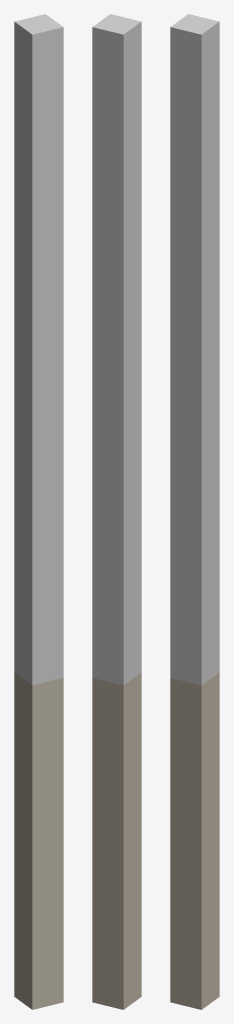
File: Mesh_Wall2Colors_B5.fbx
3 views of the same model, side by side, from view 1: azimuth 30°, elevation 25°; view 2: azimuth 150°, elevation 25°; view 3: azimuth 330°, elevation 25° (orthographic).
Parts seen in each view (by area): view 1: Mesh_Wall2Colors_B5; view 2: Mesh_Wall2Colors_B5; view 3: Mesh_Wall2Colors_B5.
Boxes of the visible parts, left/top/right/bottom form: Mesh_Wall2Colors_B5: left=14, top=14, right=63, bottom=1009; Mesh_Wall2Colors_B5: left=92, top=14, right=141, bottom=1009; Mesh_Wall2Colors_B5: left=170, top=14, right=219, bottom=1009.
Bounding box in the file's own units: 0.1 × 3 × 0.1.
